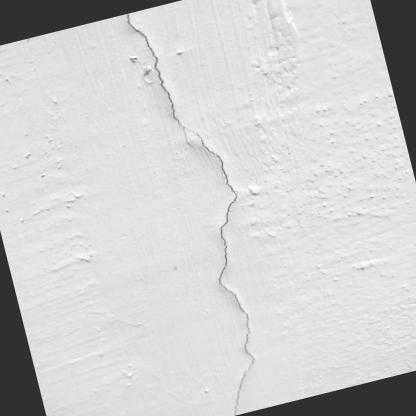crack: (189, 128, 257, 416), (121, 13, 194, 147)
